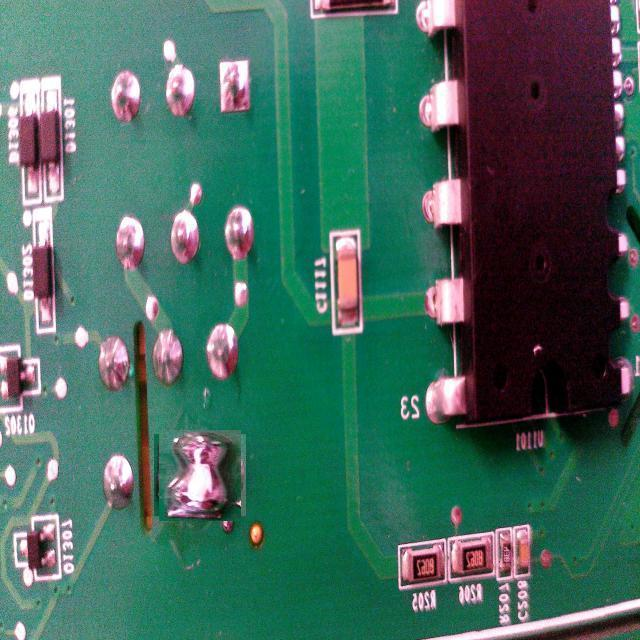Short_circuit: (156, 431, 244, 519)
